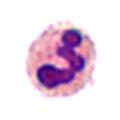neutrophil: (23, 20, 94, 95)
